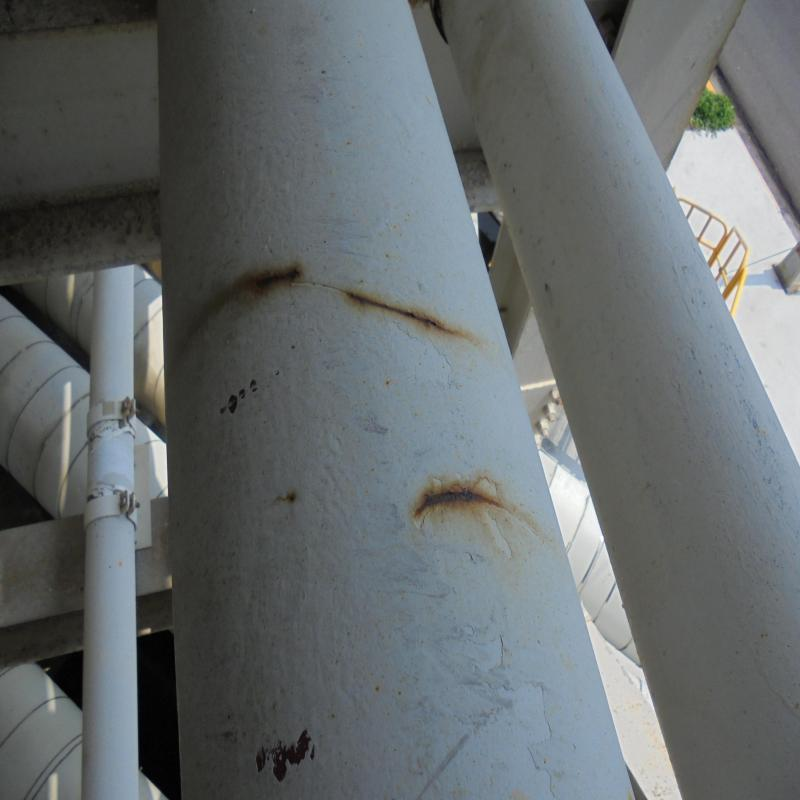corrosion: (340, 296, 477, 332), (416, 480, 522, 513), (251, 262, 312, 289)
